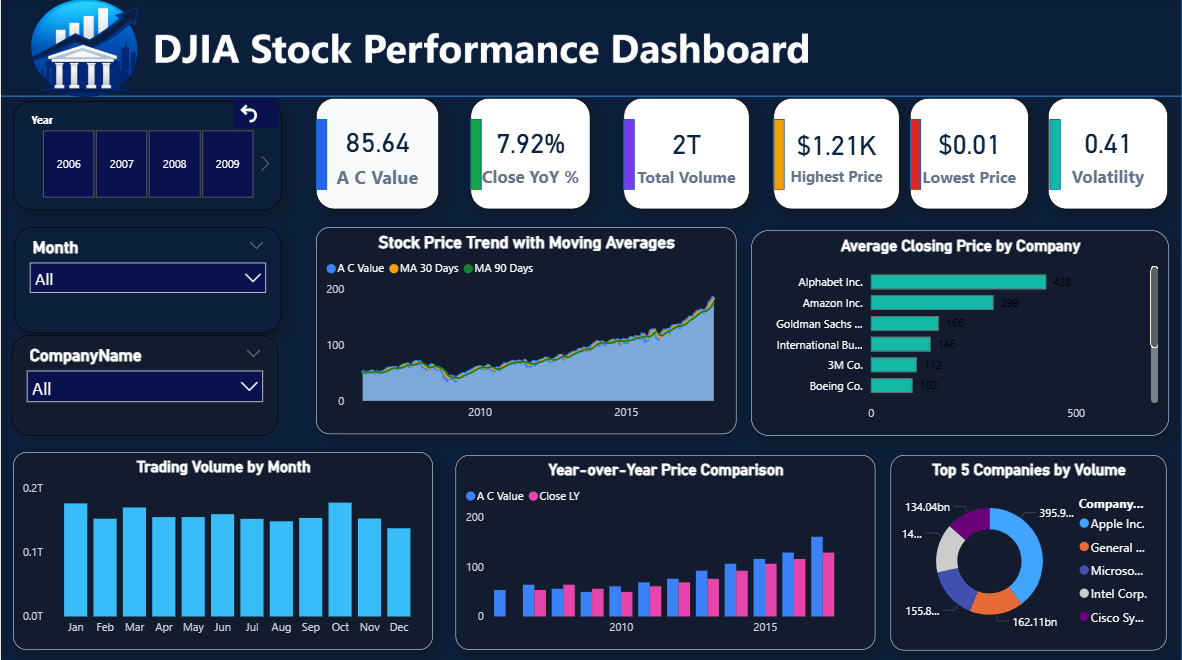

What the dashboard file says about the page in this screenshot:
{"tool":"powerbi","page":{"name":"Dasboard","canvas":[1280,720],"ordinal":2},"visuals":[{"type":"card","title":"A C VALUE","fields":{"Values":["Calculations.Average Close Value"]},"box":[341.6,107.4,133.4,120.4],"z":0},{"type":"card","title":"CLOSE YOY %","fields":{"Values":["Calculations.Close YoY %"]},"box":[509.1,107.4,130.1,120.4],"z":1000},{"type":"card","title":"VOLUME","fields":{"Values":["Calculations.Total Volume"]},"box":[675,107.4,136.6,120.4],"z":2000},{"type":"card","title":"HIGHEST PRICE","fields":{"Values":["Calculations.Highest Price"]},"box":[837.7,107.4,136.6,120.4],"z":3000},{"type":"card","title":"LOWEST PRICE","fields":{"Values":["Calculations.Lowest Price"]},"box":[985.7,107.4,128.5,120.4],"z":4000},{"type":"card","title":"VOLATILITY","fields":{"Values":["Calculations.Volatility"]},"box":[1135.3,107.4,130.1,120.4],"z":5000},{"type":"slicer","title":"Select Year","fields":{"Values":["DateTable.Year"]},"box":[13,110.6,291.2,118.7],"z":6000},{"type":"lineChart","title":"Stock Price Trend with Moving Averages","fields":{"Category":["DateTable.Date"],"Y":["Calculations.Average Close Value","Calculations.MA 30 Days","Calculations.MA 90 Days"]},"box":[342.3,247.1,455.7,224.8],"z":7000},{"type":"columnChart","title":"Trading Volume by Month","fields":{"Category":["DateTable.Month"],"Y":["Calculations.Total Volume"]},"box":[13,491.2,455.4,214.7],"z":8000},{"type":"clusteredColumnChart","title":"Year-over-Year Price Comparison","fields":{"Category":["DateTable.Year"],"Y":["Calculations.Average Close Value","Calculations.Close LY"]},"box":[492.8,494.5,455.4,211.5],"z":9000},{"type":"clusteredBarChart","title":"Average Closing Price by Company","fields":{"Category":["Company Names.CompanyName"],"Y":["Calculations.A C Value"]},"box":[812.7,250.4,453.6,223.7],"z":10000},{"type":"slicer","title":"Select Month","fields":{"Values":["DateTable.Month"]},"box":[14.2,247.1,289.6,115.4],"z":11000},{"type":"slicer","title":"Choose Company","fields":{"Values":["Company Names.CompanyName"]},"box":[12.2,364.6,289.6,109.4],"z":12000},{"type":"donutChart","title":"Top 5 Companies by Volume ","fields":{"Category":["Company Names.CompanyName"],"Y":["Calculations.Total Volume"]},"box":[964,494.2,299.4,212],"z":13000},{"type":"actionButton","box":[252.1,107.4,48.7,32.9],"z":14000},{"type":"shape","box":[342.3,129.6,12.2,77],"z":15000},{"type":"shape","box":[986.3,129.6,12.2,77],"z":16000},{"type":"shape","box":[838.5,129.6,12.2,77],"z":17000},{"type":"shape","box":[674.4,129.6,12.2,77],"z":18000},{"type":"shape","box":[508.4,129.6,12.2,77],"z":19000},{"type":"shape","box":[1136.2,129.6,12.2,77],"z":20000}]}

Visuals, with their boxes in screenshot pixels (x1, y1, x2, y2), scaled from the page's 1280x720 canvas onto the 1182x660 screenshot:
"A C VALUE" card: [x1=315, y1=98, x2=439, y2=209]
"CLOSE YOY %" card: [x1=470, y1=98, x2=590, y2=209]
"VOLUME" card: [x1=623, y1=98, x2=749, y2=209]
"HIGHEST PRICE" card: [x1=774, y1=98, x2=900, y2=209]
"LOWEST PRICE" card: [x1=910, y1=98, x2=1029, y2=209]
"VOLATILITY" card: [x1=1048, y1=98, x2=1169, y2=209]
"Select Year" slicer: [x1=12, y1=101, x2=281, y2=210]
"Stock Price Trend with Moving Averages" lineChart: [x1=316, y1=227, x2=737, y2=433]
"Trading Volume by Month" columnChart: [x1=12, y1=450, x2=433, y2=647]
"Year-over-Year Price Comparison" clusteredColumnChart: [x1=455, y1=453, x2=876, y2=647]
"Average Closing Price by Company" clusteredBarChart: [x1=750, y1=230, x2=1169, y2=435]
"Select Month" slicer: [x1=13, y1=227, x2=281, y2=332]
"Choose Company" slicer: [x1=11, y1=334, x2=279, y2=434]
"Top 5 Companies by Volume " donutChart: [x1=890, y1=453, x2=1167, y2=647]
actionButton: [x1=233, y1=98, x2=278, y2=129]
shape: [x1=316, y1=119, x2=327, y2=189]
shape: [x1=911, y1=119, x2=922, y2=189]
shape: [x1=774, y1=119, x2=786, y2=189]
shape: [x1=623, y1=119, x2=634, y2=189]
shape: [x1=469, y1=119, x2=481, y2=189]
shape: [x1=1049, y1=119, x2=1060, y2=189]
